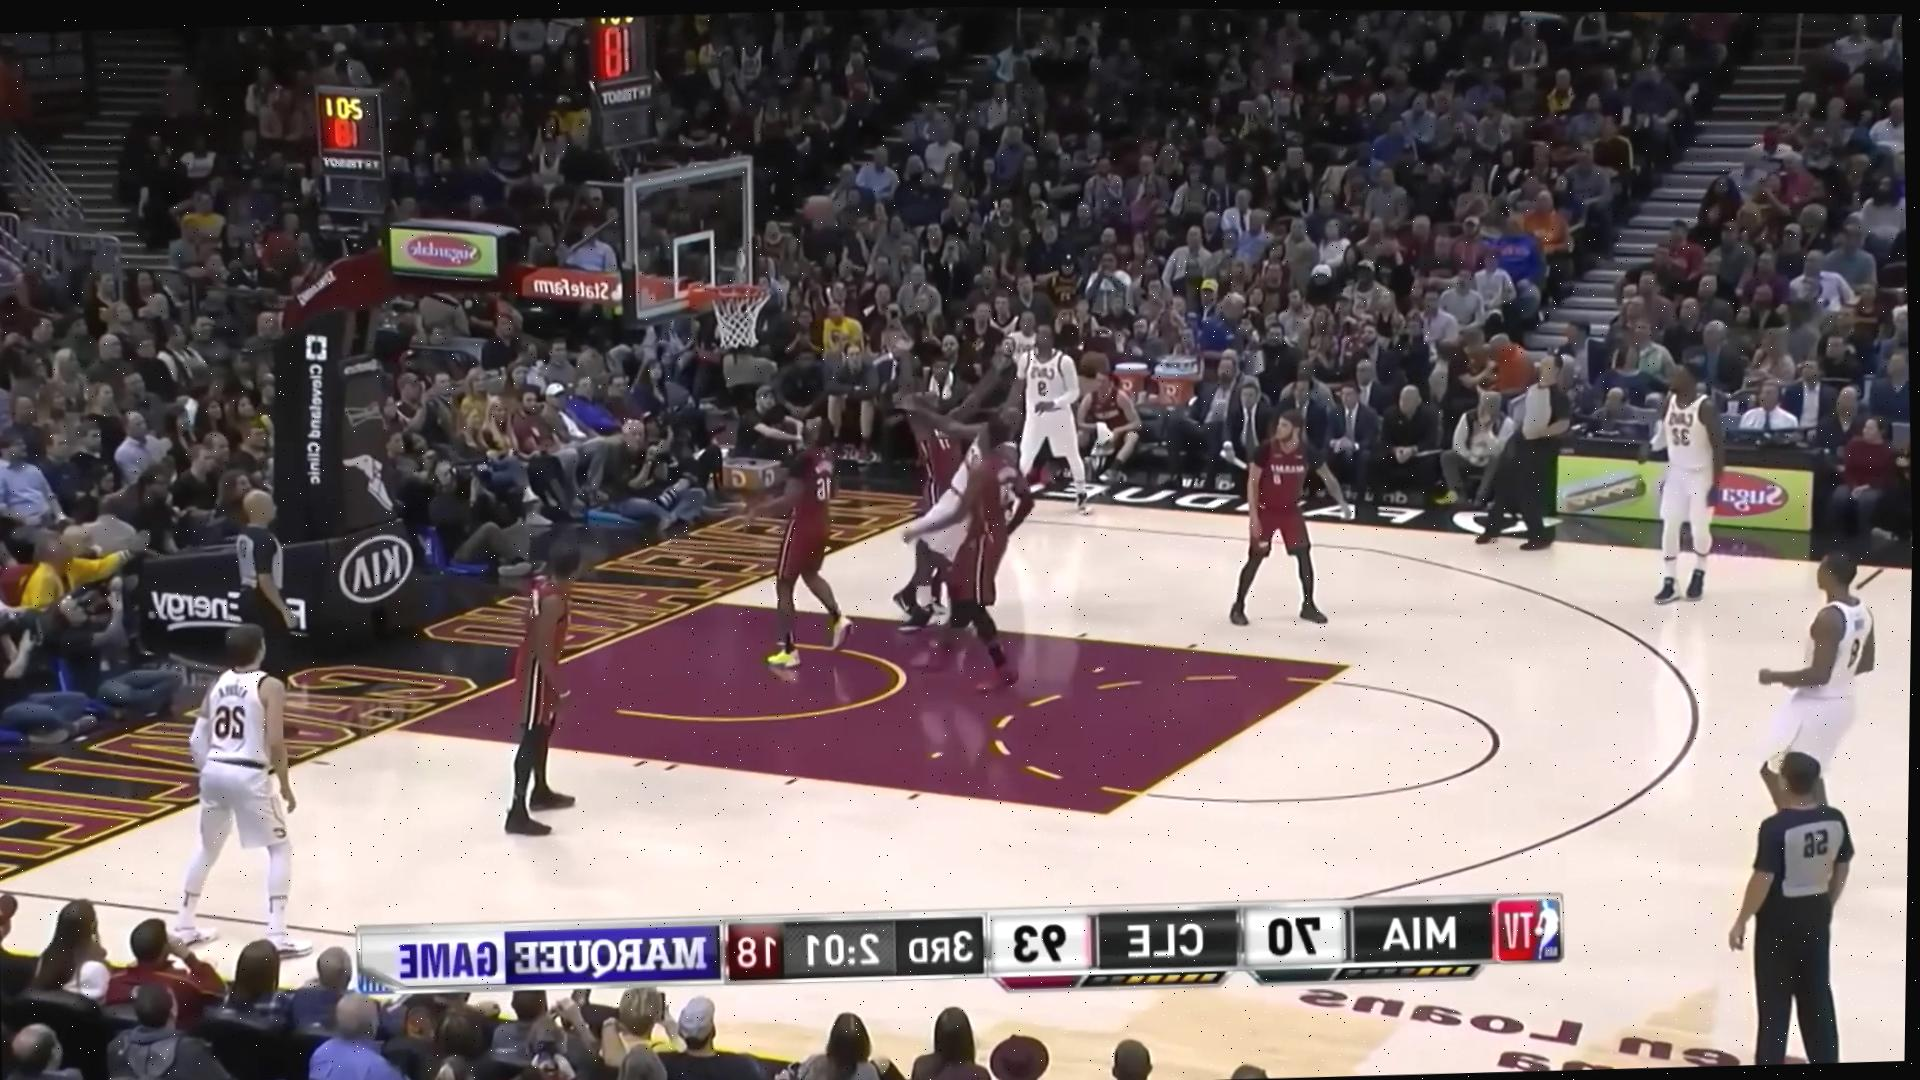foul: (843, 368, 1108, 696)
